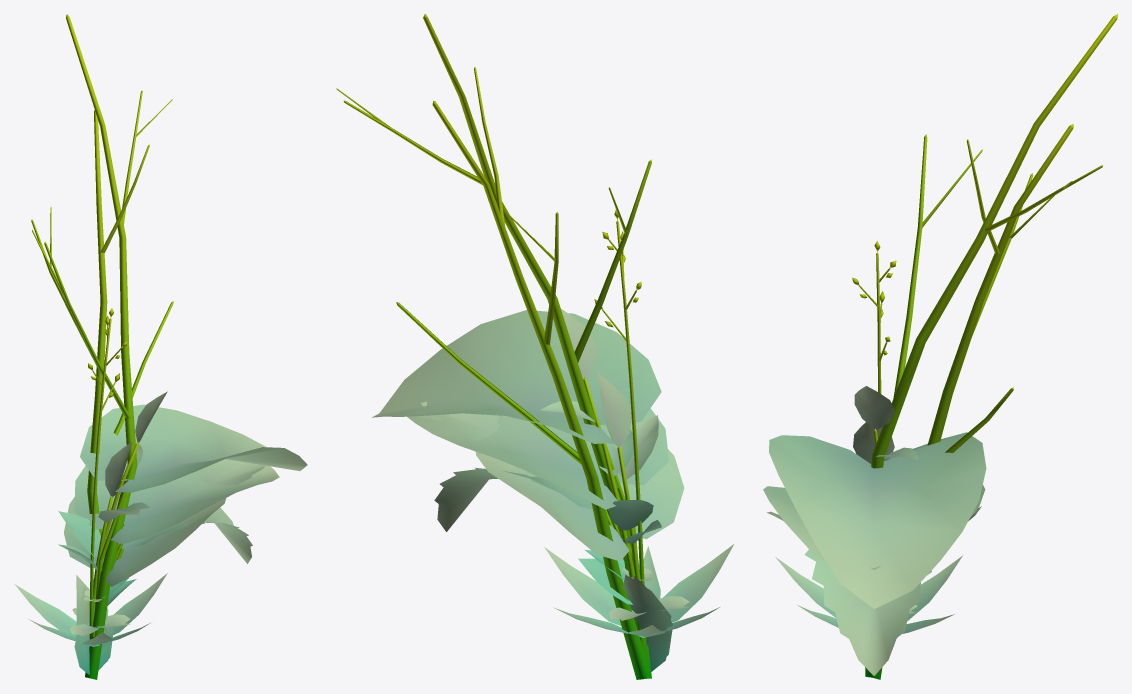
File: kit.glb
The picture shows the model from 3 angles, left to right: view 1: azimuth 30°, elevation 25°; view 2: azimuth 150°, elevation 25°; view 3: azimuth 270°, elevation 25°; orthographic projection. The views are drawn at different scales.
Visible parts, largest first — view 1: leaf_round_c, twig_canopy_b, leaf_round_a, twig_canopy_a, leaf_round_b, flower_star, sprig_b, sprig_a, seedhead_a, leaf_serrated_b, leaf_serrated_a, leaf_canopy_c (+2 smaller); view 2: leaf_round_c, twig_canopy_a, leaf_round_a, twig_canopy_b, leaf_round_b, flower_star, sprig_b, sprig_a, leaf_serrated_b, seedhead_a, leaf_serrated_a, leaf_canopy_c (+2 smaller); view 3: leaf_round_c, twig_canopy_b, leaf_serrated_b, twig_canopy_a, flower_star, sprig_b, leaf_round_a, seedhead_a, sprig_a.
Part boxes in pixels (left/top/right/bottom): leaf_round_c: left=80, top=404, right=307, bottom=611; twig_canopy_b: left=32, top=14, right=172, bottom=679; leaf_round_a: left=74, top=465, right=279, bottom=544; twig_canopy_a: left=31, top=110, right=173, bottom=672; leaf_round_b: left=64, top=497, right=226, bottom=586; flower_star: left=14, top=573, right=167, bottom=646; sprig_b: left=58, top=391, right=167, bottom=594; sprig_a: left=58, top=442, right=139, bottom=622; seedhead_a: left=88, top=308, right=127, bottom=639; leaf_serrated_b: left=116, top=507, right=252, bottom=563; leaf_serrated_a: left=114, top=459, right=266, bottom=563; leaf_canopy_c: left=76, top=575, right=111, bottom=673; leaf_round_c: left=372, top=310, right=661, bottom=555; twig_canopy_a: left=396, top=67, right=651, bottom=679; leaf_round_a: left=407, top=408, right=668, bottom=561; twig_canopy_b: left=336, top=14, right=651, bottom=678; leaf_round_b: left=475, top=449, right=684, bottom=570; flower_star: left=544, top=544, right=733, bottom=637; sprig_b: left=540, top=309, right=653, bottom=660; sprig_a: left=578, top=373, right=661, bottom=656; leaf_serrated_b: left=434, top=467, right=628, bottom=569; seedhead_a: left=594, top=209, right=644, bottom=584; leaf_serrated_a: left=420, top=401, right=620, bottom=536; leaf_canopy_c: left=623, top=574, right=671, bottom=653; leaf_round_c: left=769, top=432, right=986, bottom=608; twig_canopy_b: left=865, top=14, right=1117, bottom=677; leaf_serrated_b: left=804, top=549, right=931, bottom=675; twig_canopy_a: left=865, top=124, right=1073, bottom=679; flower_star: left=775, top=555, right=962, bottom=633; sprig_b: left=854, top=386, right=918, bottom=459; leaf_round_a: left=763, top=485, right=985, bottom=562; seedhead_a: left=852, top=241, right=896, bottom=393; sprig_a: left=853, top=422, right=894, bottom=464.
Bounding box in the file's own units: 0.0845 × 0.1714 × 0.0779.
